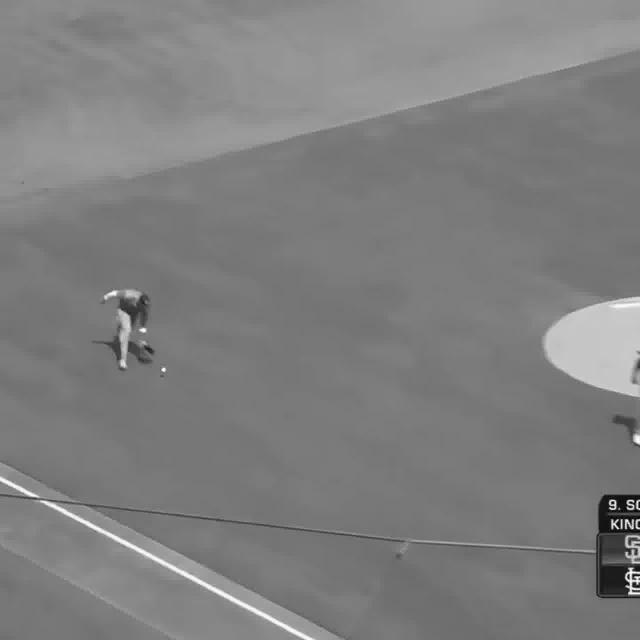baseball: (162, 368, 166, 372)
baseball_glove: (142, 345, 156, 356)
shoe: (120, 360, 128, 370)
